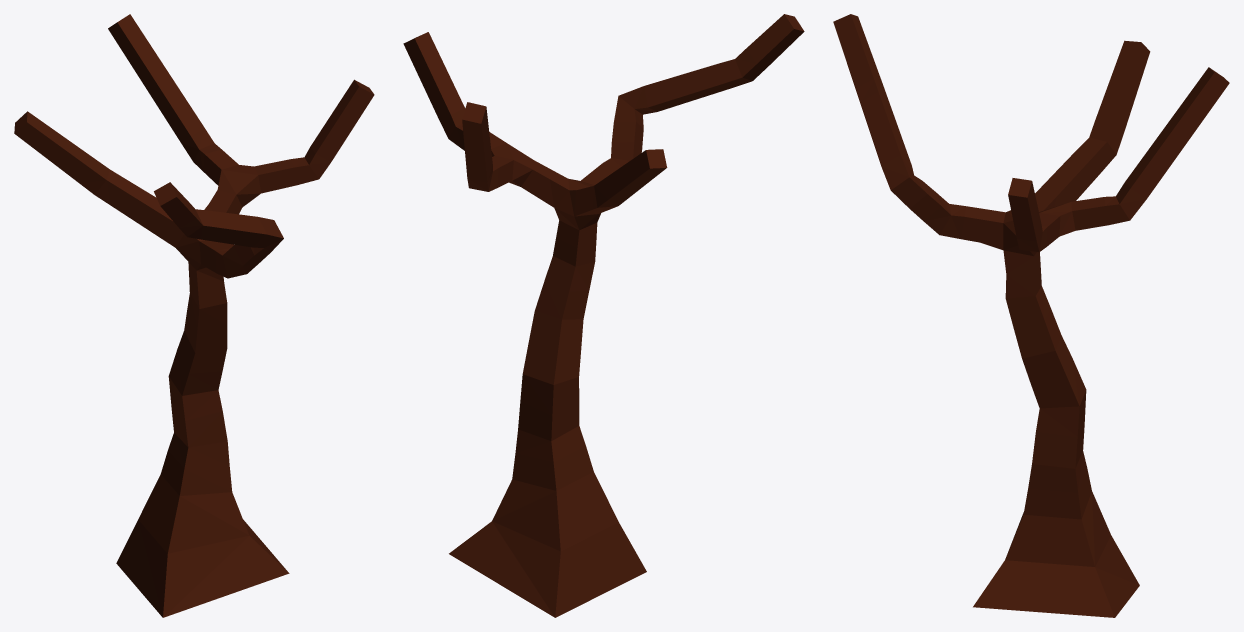
Rendered from DesertTree1.fbx.
3 views of the same model, side by side, from view 1: azimuth 30°, elevation 25°; view 2: azimuth 150°, elevation 25°; view 3: azimuth 270°, elevation 25° (orthographic). The views are drawn at different scales.
Parts seen in each view (by area): view 1: deserttree1; view 2: deserttree1; view 3: deserttree1.
Part boxes in pixels (left/top/right/bottom): deserttree1: left=14, top=14, right=374, bottom=617; deserttree1: left=403, top=14, right=804, bottom=617; deserttree1: left=833, top=14, right=1229, bottom=617.
Bounding box in the file's own units: 359 × 575 × 384.
